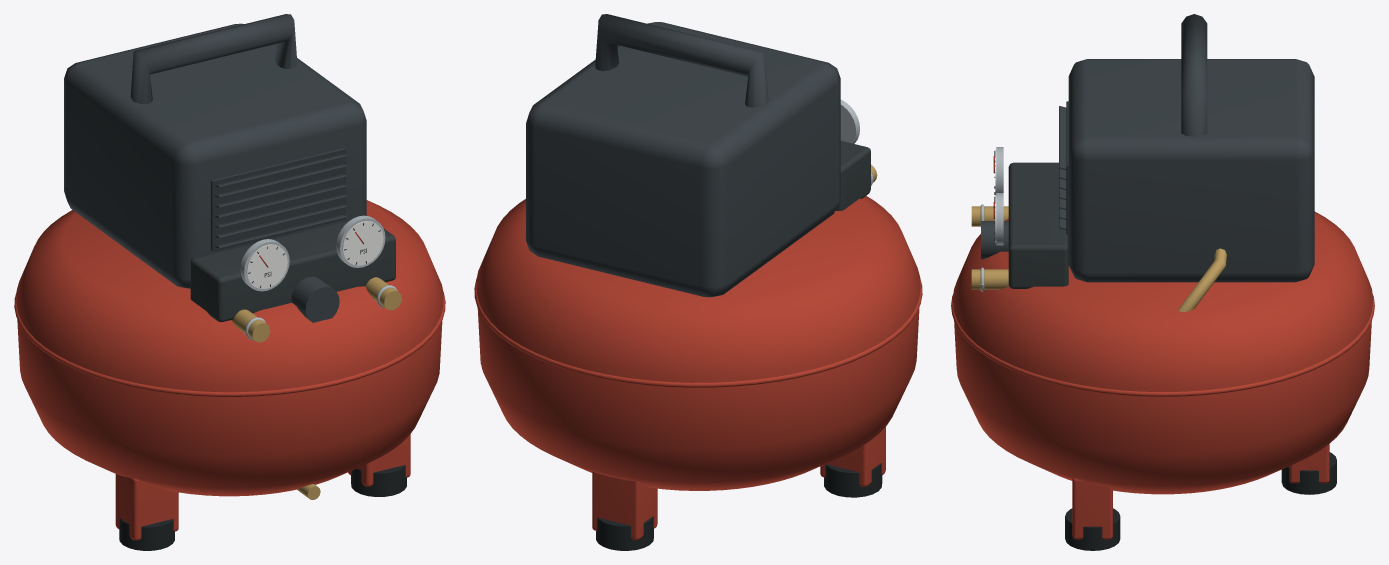
The model's file is garage-air-compressor.glb.
The picture shows the model from 3 angles, left to right: view 1: azimuth 30°, elevation 25°; view 2: azimuth 150°, elevation 25°; view 3: azimuth 270°, elevation 25°; orthographic projection. The views are drawn at different scales.
Visible parts, largest first — view 1: catalog_surface_RealismUV; view 2: catalog_surface_RealismUV; view 3: catalog_surface_RealismUV.
Boxes of the visible parts, box(x1,y1,x2,y2) form: catalog_surface_RealismUV: box(14, 14, 445, 550); catalog_surface_RealismUV: box(474, 14, 922, 550); catalog_surface_RealismUV: box(951, 14, 1374, 550).
Bounding box in the file's own units: 0.46 × 0.52 × 0.46.
